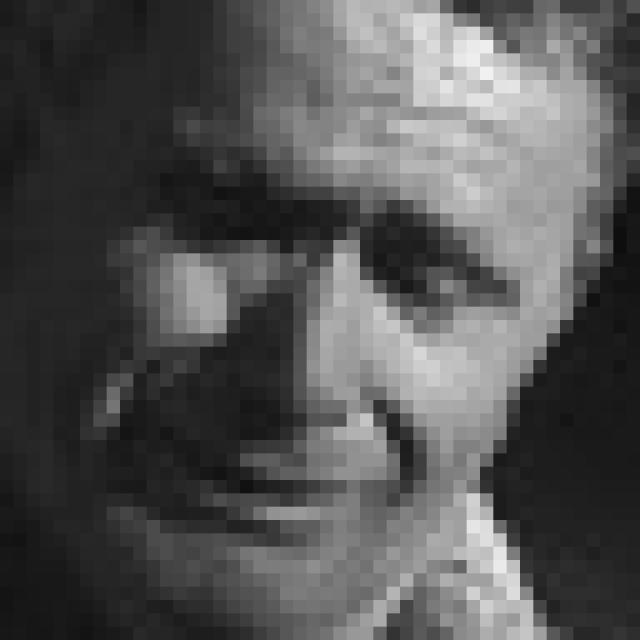sad: (81, 107, 530, 548)
